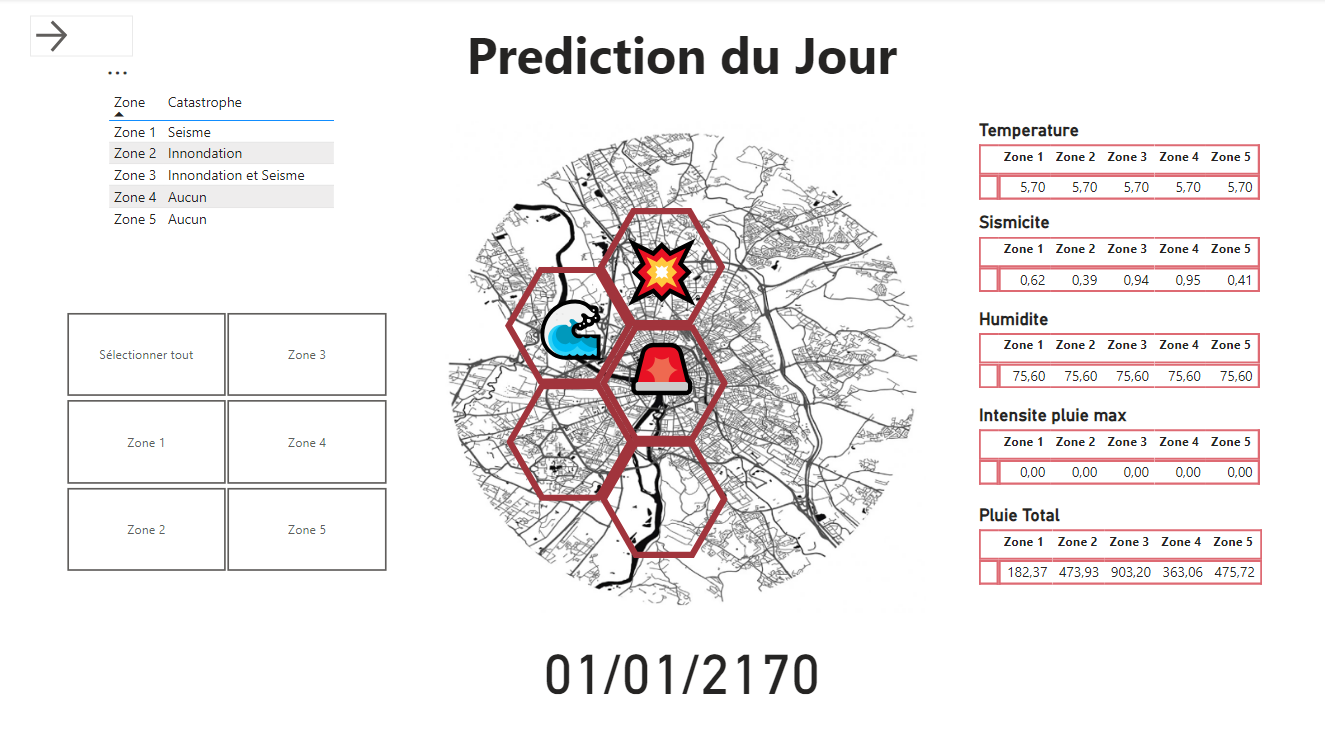

What the dashboard file says about the page in this screenshot:
{"tool":"powerbi","page":{"name":"Prediction","canvas":[1280,720],"ordinal":0},"visuals":[{"type":"card","fields":{"Values":["Max(catastrophes_naturelles_prediction.date)"]},"box":[386.7,570,541.7,150],"z":0},{"type":"image","box":[396.5,111.4,520,487.8],"z":1000},{"type":"shape","box":[578.5,426.4,123.3,113.3],"z":2000},{"type":"shape","box":[488.6,371.4,123.3,113.8],"z":3000},{"type":"shape","box":[578.3,314.3,123.6,113.6],"z":4000},{"type":"shape","box":[487.6,259,123.3,113.8],"z":5000},{"type":"shape","box":[577,202.1,123.3,114],"z":6000},{"type":"slicer","fields":{"Values":["catastrophes_naturelles_prediction.Zone"]},"box":[38.3,296.7,358.3,263.3],"z":7000},{"type":"tableEx","fields":{"Values":["catastrophes_naturelles_prediction.Zone","catastrophes_naturelles_prediction.catastrophe_text"]},"box":[98.3,85,335,156.7],"z":8000},{"type":"card","fields":{"Values":["Table_Emoji.Seisme5"]},"box":[568.6,431.4,144,103],"z":9000},{"type":"card","fields":{"Values":["Table_Emoji.Seisme1"]},"box":[566.6,208.4,144,103],"z":10000},{"type":"card","fields":{"Values":["Table_Emoji.Seisme3"]},"box":[568.6,320.4,144,103],"z":11000},{"type":"card","fields":{"Values":["Table_Emoji.Innon3"]},"box":[588.6,329.4,100,85],"z":12000},{"type":"card","fields":{"Values":["Table_Emoji.Innon4"]},"box":[500.6,383.4,100,85],"z":13000},{"type":"card","fields":{"Values":["Table_Emoji.Innon2"]},"box":[500.6,274.4,100,85],"z":14000},{"type":"card","fields":{"Values":["Table_Emoji.All3"]},"box":[566.6,304.3,143.9,103.1],"z":16000},{"type":"pivotTable","title":"Temperature","fields":{"Columns":["catastrophes_naturelles_prediction.Zone"],"Values":["Avg(catastrophes_naturelles_prediction.temperature)"]},"box":[940,116.5,340,92.9],"z":17000},{"type":"pivotTable","title":"Sismicite","fields":{"Columns":["catastrophes_naturelles_prediction.Zone"],"Values":["Avg(catastrophes_naturelles_prediction.sismicite)"]},"box":[940,206.5,340,92.9],"z":18000},{"type":"pivotTable","title":"Humidite","fields":{"Columns":["catastrophes_naturelles_prediction.Zone"],"Values":["Avg(catastrophes_naturelles_prediction.humidite)"]},"box":[940,299.4,340,92.9],"z":19000},{"type":"pivotTable","title":"Intensite pluie max","fields":{"Columns":["catastrophes_naturelles_prediction.Zone"],"Values":["Avg(catastrophes_naturelles_prediction.pluie_intensite_max)"]},"box":[940,392.2,340,92.9],"z":20000},{"type":"pivotTable","title":"Pluie Total","fields":{"Columns":["catastrophes_naturelles_prediction.Zone"],"Values":["Avg(catastrophes_naturelles_prediction.pluie_totale)"]},"box":[940,488.9,340,91.7],"z":21000},{"type":"textbox","box":[391.7,16.7,531.7,95],"z":22000},{"type":"actionButton","box":[28.6,17.1,100,40],"z":23000}]}

Visuals, with their boxes in screenshot pixels (x1, y1, x2, y2):
card - Max(catastrophes_naturelles_prediction.date): [458,538,1009,690]
image: [468,72,997,567]
shape: [653,392,779,507]
shape: [562,336,687,452]
shape: [653,278,779,393]
shape: [561,222,686,337]
shape: [652,164,777,280]
slicer - catastrophes_naturelles_prediction.Zone: [104,260,469,528]
tableEx - catastrophes_naturelles_prediction.Zone x catastrophes_naturelles_prediction.catastrophe_text: [165,45,506,204]
card - Table_Emoji.Seisme5: [643,397,790,502]
card - Table_Emoji.Seisme1: [641,170,788,275]
card - Table_Emoji.Seisme3: [643,284,790,389]
card - Table_Emoji.Innon3: [664,293,765,380]
card - Table_Emoji.Innon4: [574,348,676,435]
card - Table_Emoji.Innon2: [574,237,676,324]
card - Table_Emoji.All3: [641,268,788,373]
"Temperature" pivotTable: [1021,77,1324,171]
"Sismicite" pivotTable: [1021,168,1324,263]
"Humidite" pivotTable: [1021,263,1324,357]
"Intensite pluie max" pivotTable: [1021,357,1324,452]
"Pluie Total" pivotTable: [1021,455,1324,549]
textbox: [464,0,1004,72]
actionButton: [95,0,196,17]
